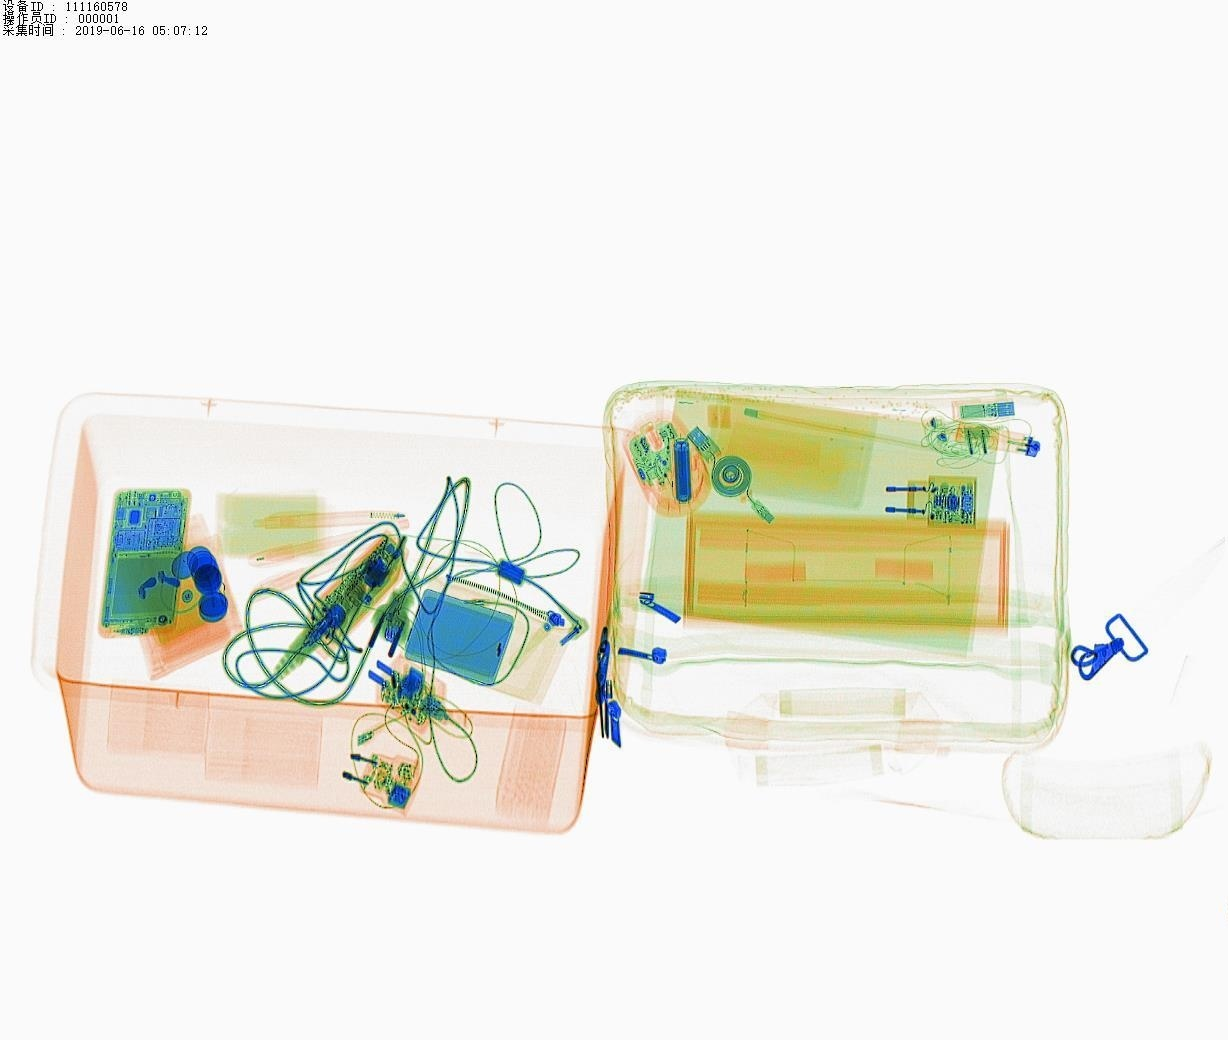NonmetallicFire: (935, 411, 1063, 478)
